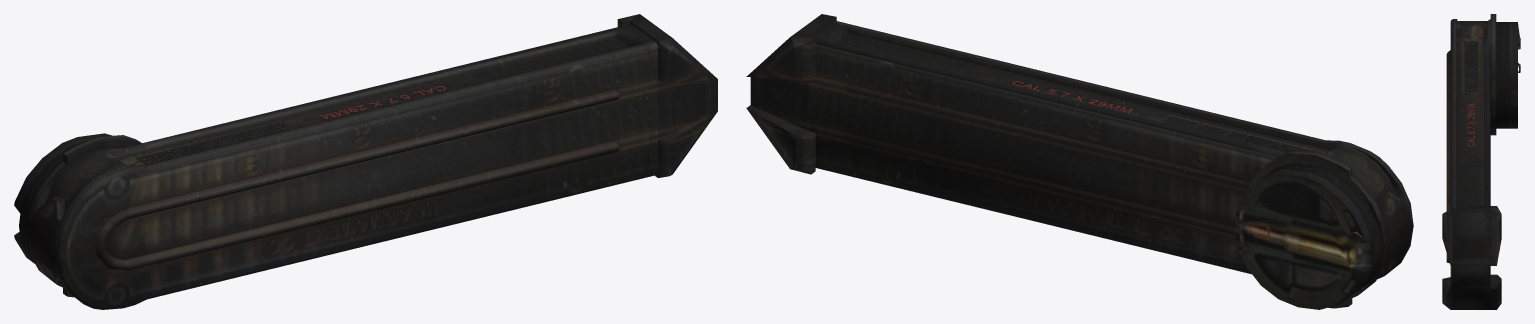
File: t6_attach_mag_pdw57_view_LOD0.obj
3 views of the same model, side by side, from view 1: azimuth 30°, elevation 25°; view 2: azimuth 150°, elevation 25°; view 3: azimuth 270°, elevation 25° (orthographic). The views are drawn at different scales.
Parts seen in each view (by area): view 1: mtl_t6_wpn_smg_pdw57_camo1; view 2: mtl_t6_wpn_smg_pdw57_camo1; view 3: mtl_t6_wpn_smg_pdw57_camo1.
Boxes of the visible parts, left/top/right/bottom form: mtl_t6_wpn_smg_pdw57_camo1: left=14, top=14, right=717, bottom=309; mtl_t6_wpn_smg_pdw57_camo1: left=746, top=14, right=1413, bottom=309; mtl_t6_wpn_smg_pdw57_camo1: left=1442, top=14, right=1520, bottom=309.
Bounding box in the file's own units: 24.44 × 5.53 × 3.57.
